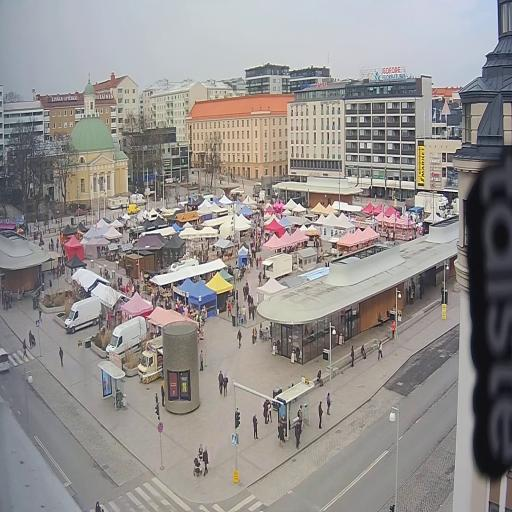car: (0, 341, 14, 382)
delivery: (101, 308, 152, 364), (61, 292, 106, 337), (412, 190, 449, 220), (128, 190, 149, 208), (127, 199, 141, 216)
